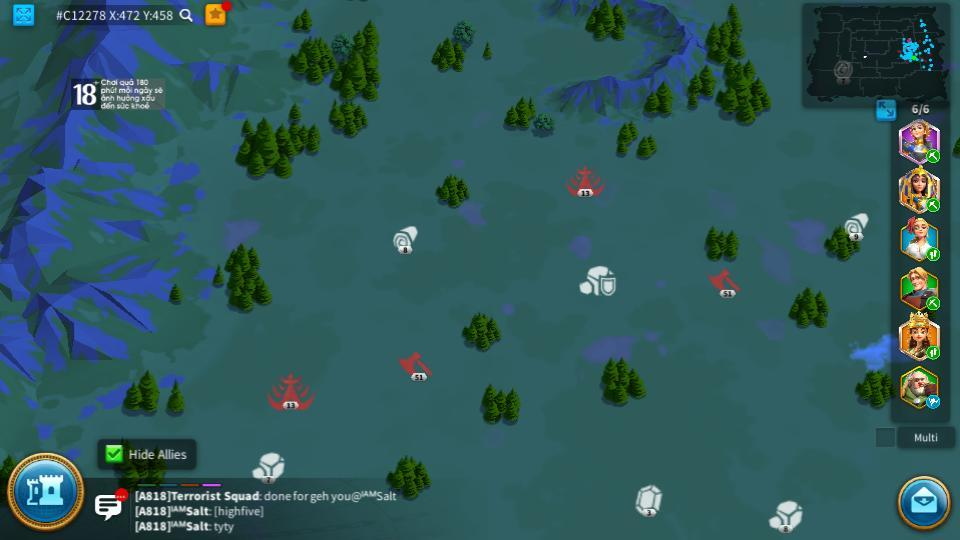gem-z-out: (633, 486, 664, 514)
march_farming: (925, 197, 941, 212), (925, 247, 941, 261), (925, 149, 941, 162), (925, 297, 942, 308)
march_idle: (925, 396, 942, 408)
march_marching: (925, 347, 942, 359)
